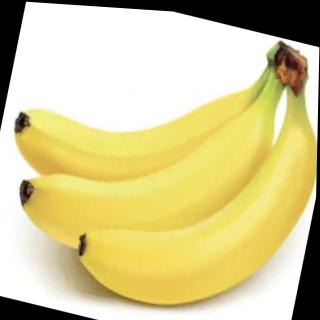banana: (7, 55, 283, 297), (67, 73, 318, 320), (2, 36, 278, 239)
